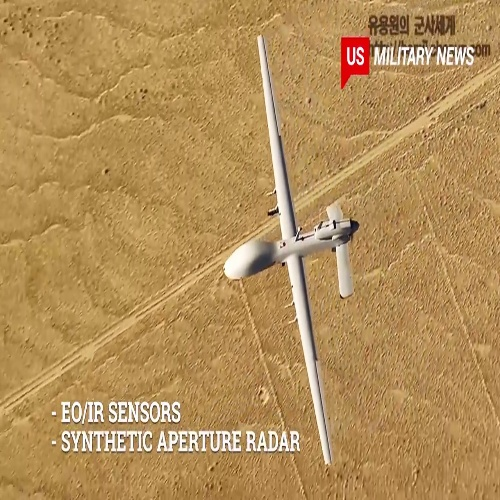uav202: (221, 28, 363, 468)
